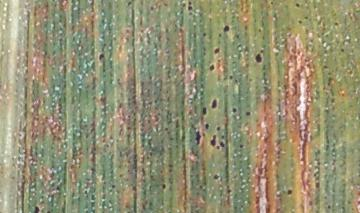tarspot: (254, 48, 265, 65), (193, 128, 202, 148), (210, 97, 220, 111), (209, 132, 217, 148), (208, 62, 217, 73), (96, 52, 105, 62), (222, 23, 230, 34), (130, 184, 138, 194), (32, 205, 41, 213), (200, 106, 208, 115), (286, 187, 293, 197), (212, 173, 220, 181), (321, 63, 329, 71), (219, 140, 226, 149), (293, 1, 302, 8), (213, 46, 220, 55), (242, 22, 249, 31), (204, 122, 210, 132), (160, 182, 167, 190), (230, 107, 238, 114), (187, 5, 194, 13), (296, 18, 303, 26), (326, 202, 333, 210), (228, 73, 234, 82), (244, 110, 251, 117), (180, 1, 187, 8), (333, 21, 340, 28), (125, 1, 133, 7), (302, 14, 310, 20), (233, 77, 239, 85), (256, 26, 262, 34), (109, 183, 117, 189), (238, 143, 245, 149), (215, 125, 221, 132), (219, 133, 226, 139), (339, 47, 345, 54), (234, 33, 240, 40), (201, 30, 206, 38), (215, 145, 221, 151), (356, 198, 360, 207), (226, 188, 231, 195), (148, 5, 155, 10), (217, 32, 222, 39), (186, 1, 193, 5), (268, 1, 275, 5), (45, 209, 51, 213)
